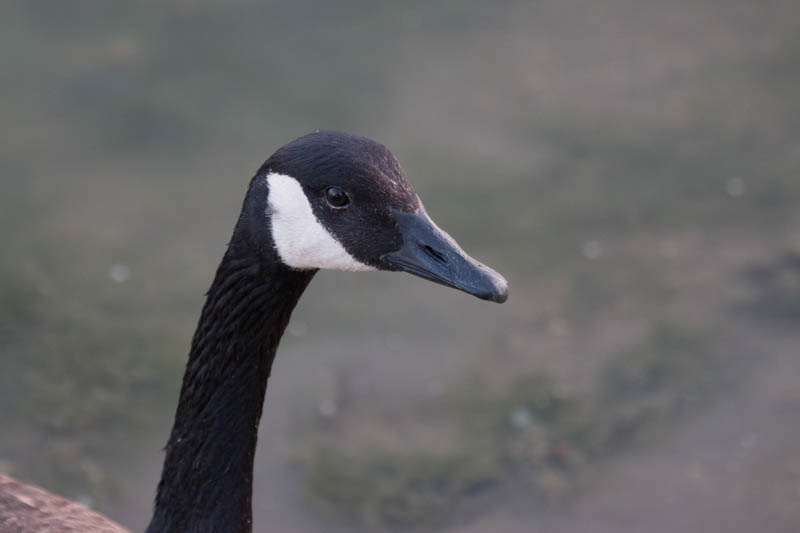goose-head: (215, 130, 512, 304)
